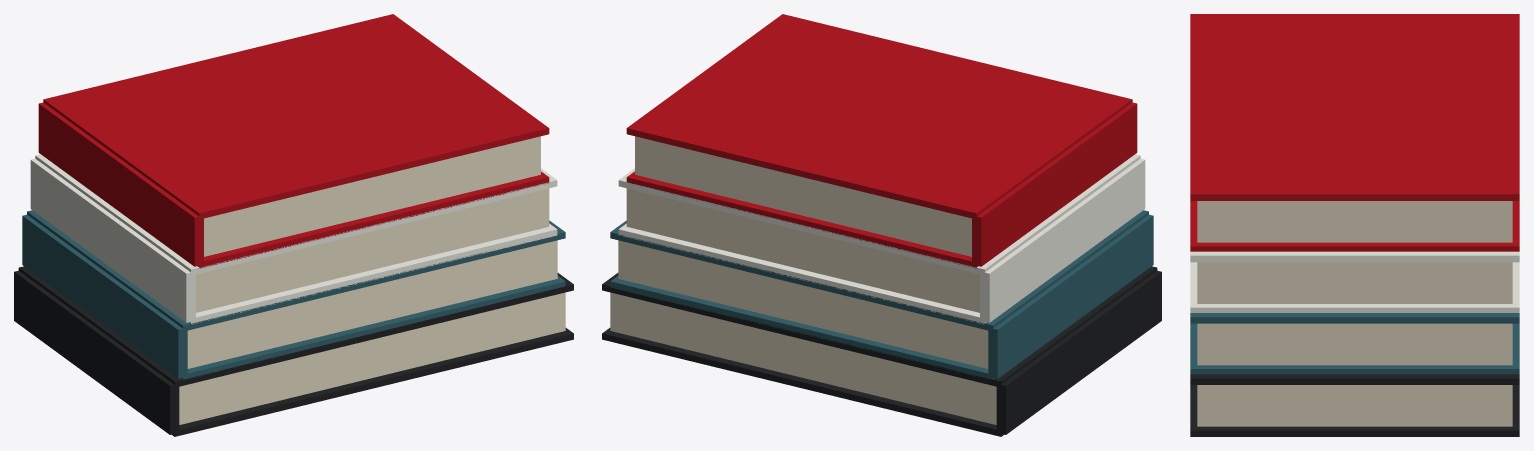
The model's file is books_stack.glb.
3 renders of one model, left to right at view 1: azimuth 30°, elevation 25°; view 2: azimuth 150°, elevation 25°; view 3: azimuth 270°, elevation 25°, orthographic. The views are drawn at different scales.
Visible parts, largest first — view 1: books_stack; view 2: books_stack; view 3: books_stack.
Part boxes in pixels (x1,y1,x2,y2): books_stack: [14, 14, 573, 436]; books_stack: [602, 14, 1161, 436]; books_stack: [1190, 14, 1519, 436].
Bounding box in the file's own units: 0.344 × 0.177 × 0.23.
